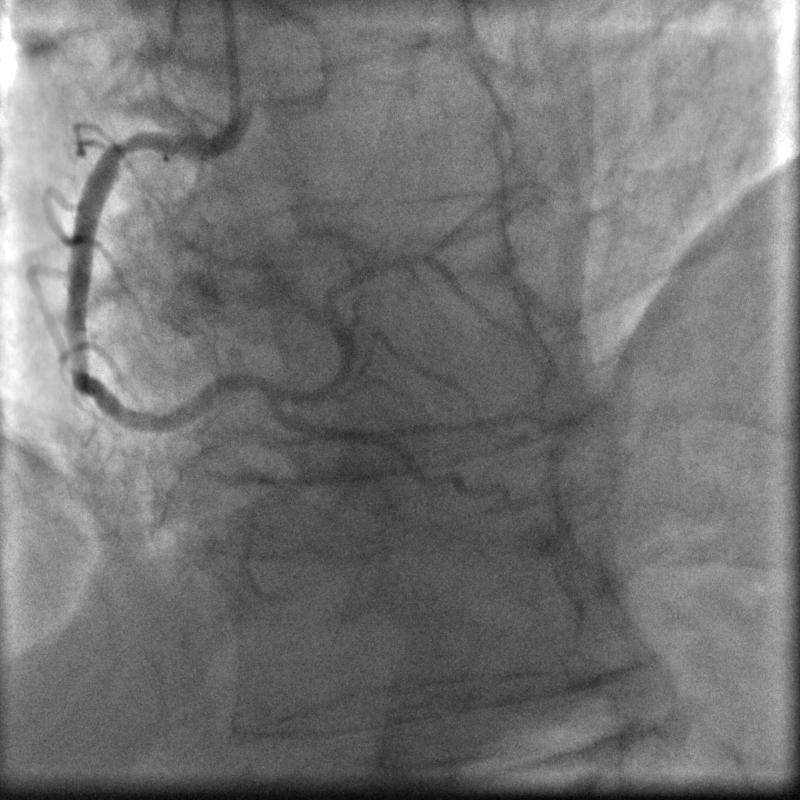Stenosis: (103, 124, 148, 161)
